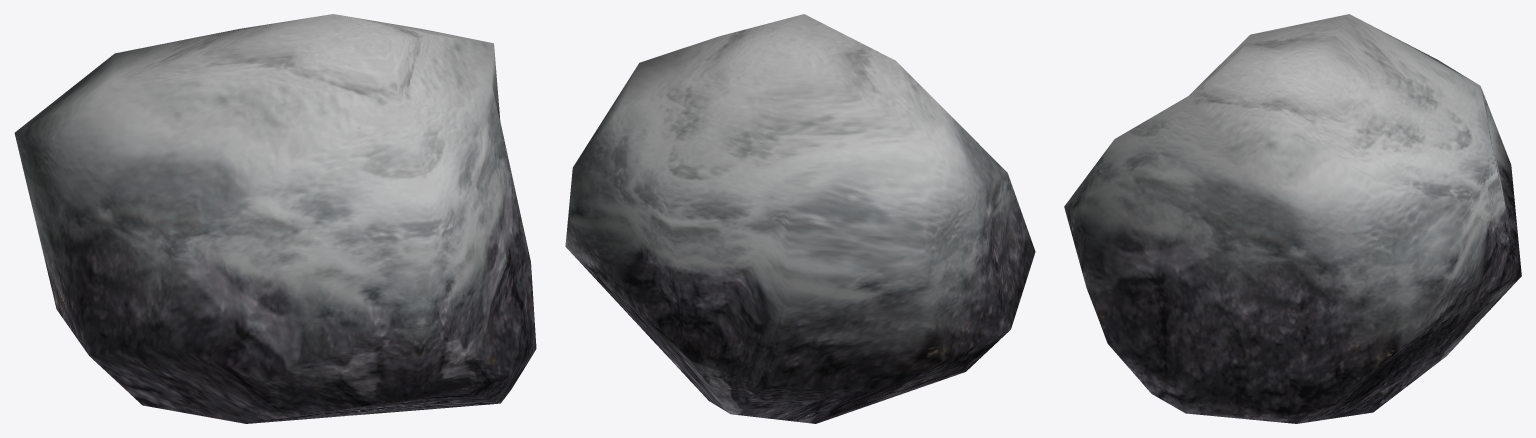
File: snow_d_a08c.fbx
3 renders of one model, left to right at view 1: azimuth 30°, elevation 25°; view 2: azimuth 150°, elevation 25°; view 3: azimuth 270°, elevation 25°, orthographic. The views are drawn at different scales.
Visible parts, largest first — view 1: d_a08c; view 2: d_a08c; view 3: d_a08c.
Part boxes in pixels (bbox=[...]): d_a08c: bbox=[14, 14, 536, 423]; d_a08c: bbox=[565, 14, 1035, 423]; d_a08c: bbox=[1064, 14, 1521, 423].
Size of the model in its own units: 173 by 147 by 179.
